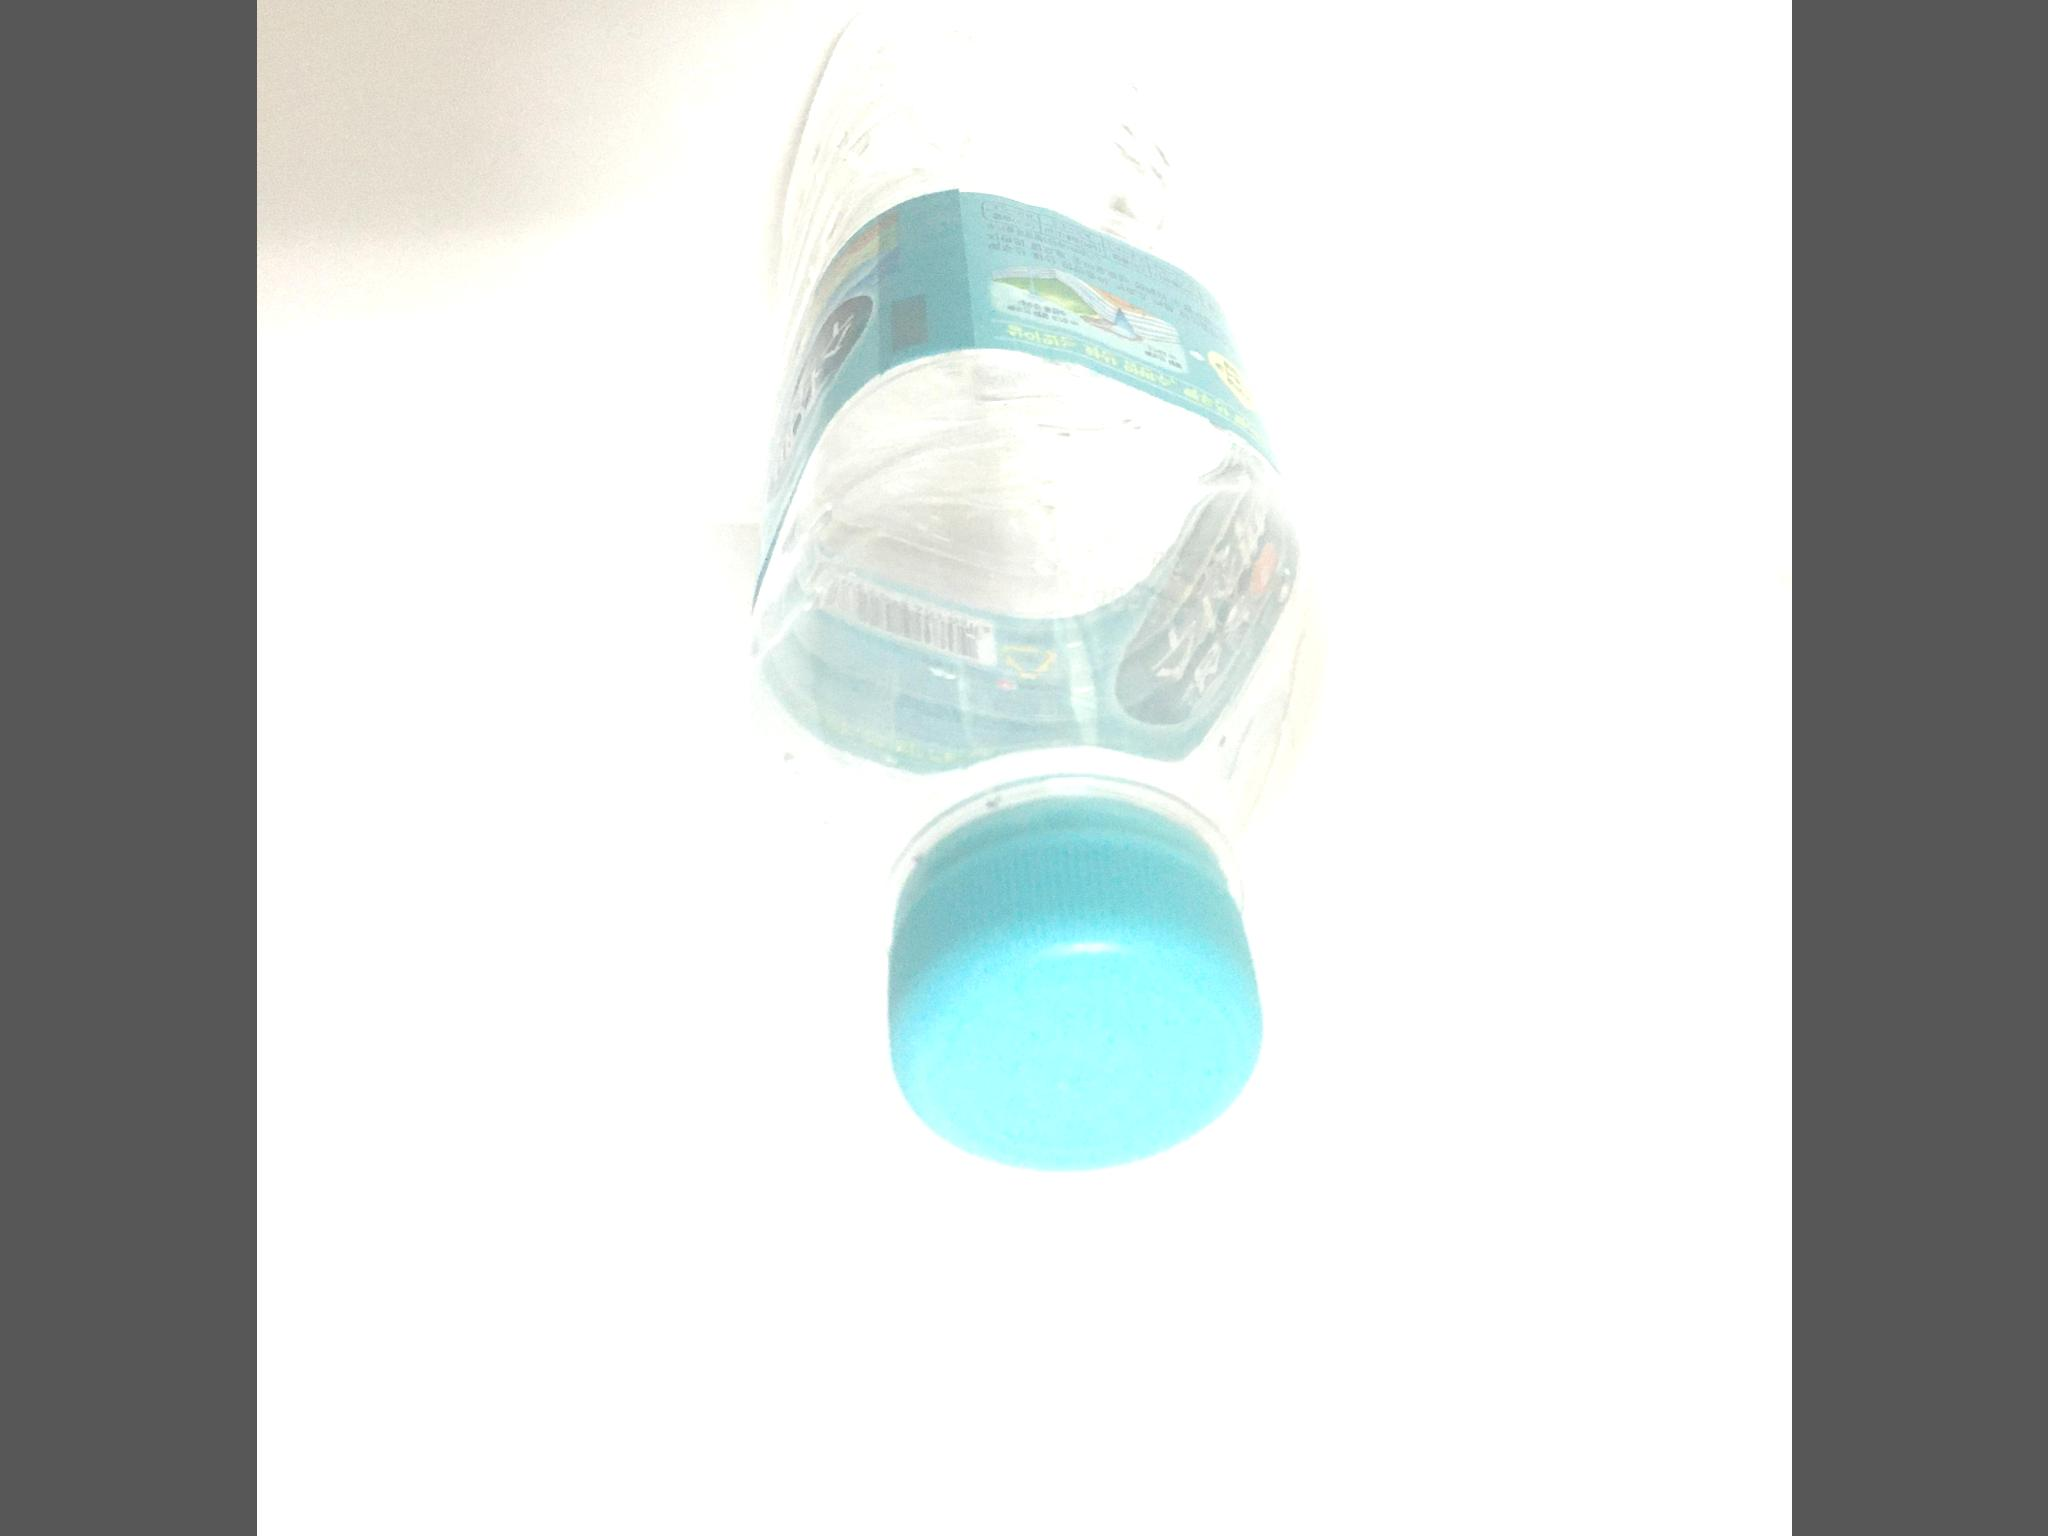bottle: (726, 0, 1338, 1181)
